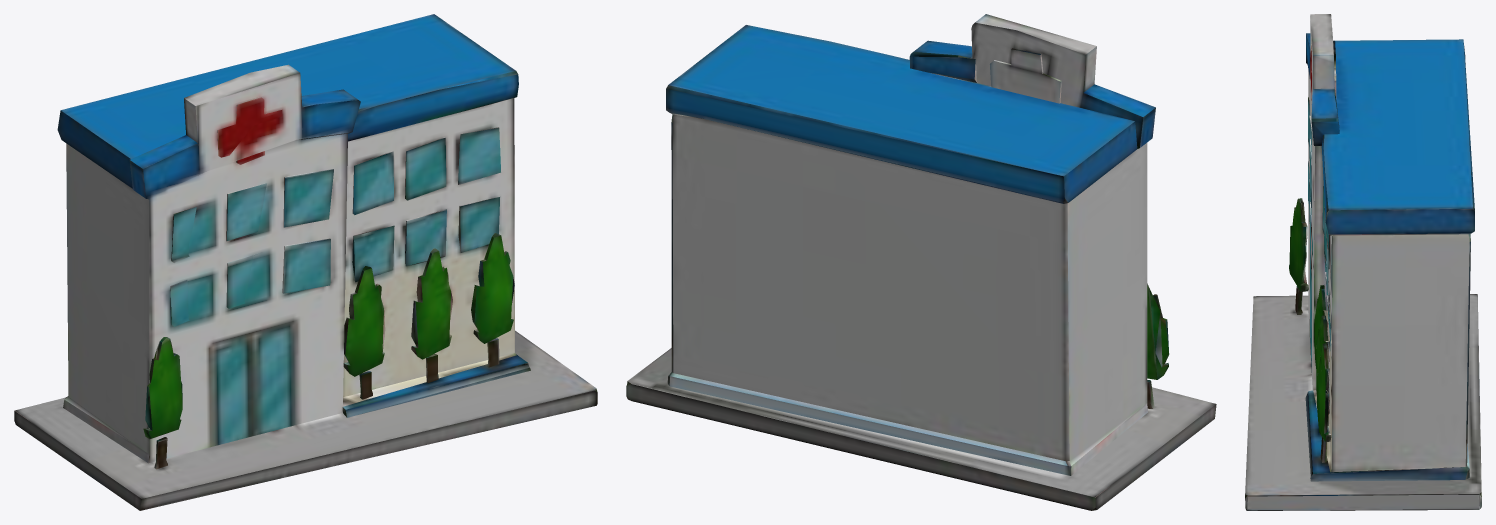
The model's file is rumah_sakit_1_lod2.glb.
3 views of the same model, side by side, from view 1: azimuth 30°, elevation 25°; view 2: azimuth 150°, elevation 25°; view 3: azimuth 270°, elevation 25° (orthographic). The views are drawn at different scales.
Parts seen in each view (by area): view 1: tripo_node_5d82a574; view 2: tripo_node_5d82a574; view 3: tripo_node_5d82a574.
Part boxes in pixels (left/top/right/bottom): tripo_node_5d82a574: left=14, top=14, right=597, bottom=510; tripo_node_5d82a574: left=626, top=14, right=1216, bottom=510; tripo_node_5d82a574: left=1245, top=14, right=1481, bottom=510.
Bounding box in the file's own units: 91.49 × 71.26 × 44.84.
1 material, 1 textured.
